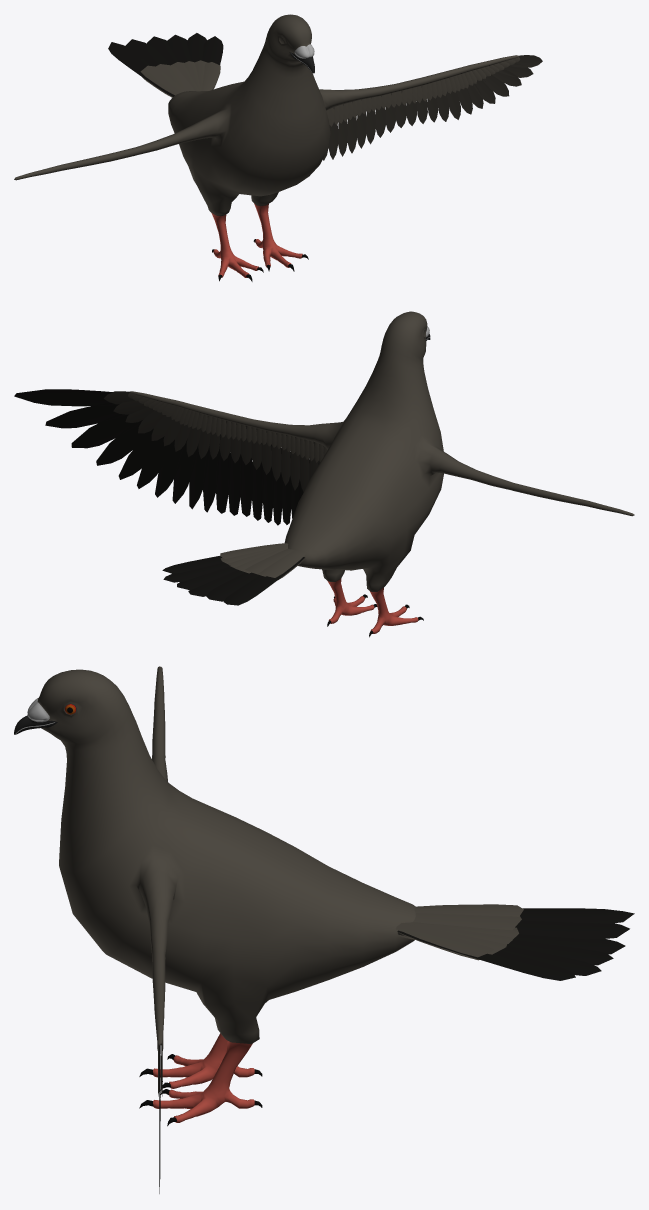
The model's file is pigeon.obj.
3 views of the same model, one above another, from view 1: azimuth 30°, elevation 25°; view 2: azimuth 150°, elevation 25°; view 3: azimuth 270°, elevation 25° (orthographic). The views are drawn at different scales.
Visible parts, largest first — view 1: pigeon, feather_tail_primary_006, feather_tail_secondary_006, feather_tail_primary_005, feather_tail_primary_001, feather_tail_primary_003, feather_tail_primary_002, feather_tail_secondary_001, feather_tail_secondary_005, feather_tail_primary_004; view 2: pigeon, feather_flight_primary_021, feather_flight_primary_020, feather_flight_primary_019, feather_flight_primary_018, feather_flight_primary_017, feather_tail_primary_006, feather_flight_primary_015, feather_flight_primary_016, feather_flight_primary_014, feather_flight_primary_013, feather_flight_primary_011 (+12 smaller); view 3: pigeon, feather_tail_primary_005, feather_tail_primary_006, feather_tail_primary_001, feather_tail_secondary_005, feather_tail_secondary_001, feather_tail_secondary_006, feather_tail_primary_003, feather_tail_primary_004, feather_tail_primary_002.
Part boxes in pixels (box(x1,y1,x2,y2)): pigeon: box(14, 14, 519, 281); feather_tail_primary_006: box(108, 42, 174, 96); feather_tail_secondary_006: box(140, 65, 185, 95); feather_tail_primary_005: box(125, 39, 170, 66); feather_tail_primary_001: box(202, 36, 223, 89); feather_tail_primary_003: box(167, 34, 191, 62); feather_tail_primary_002: box(186, 33, 206, 62); feather_tail_secondary_001: box(202, 62, 220, 90); feather_tail_secondary_005: box(156, 64, 194, 91); feather_tail_primary_004: box(147, 36, 178, 64); pigeon: box(130, 311, 634, 637); feather_flight_primary_021: box(14, 389, 119, 406); feather_flight_primary_020: box(45, 403, 127, 428); feather_flight_primary_019: box(71, 414, 142, 448); feather_flight_primary_018: box(96, 420, 153, 465); feather_flight_primary_017: box(118, 428, 164, 479); feather_tail_primary_006: box(224, 557, 304, 605); feather_flight_primary_015: box(155, 439, 187, 497); feather_flight_primary_016: box(137, 438, 174, 488); feather_flight_primary_014: box(172, 444, 198, 503); feather_flight_primary_013: box(189, 445, 209, 509); feather_flight_primary_011: box(216, 434, 230, 513); pigeon: box(14, 666, 415, 1126); feather_tail_primary_005: box(515, 920, 629, 939); feather_tail_primary_006: box(520, 908, 634, 923); feather_tail_primary_001: box(397, 930, 575, 980); feather_tail_secondary_005: box(413, 913, 521, 930); feather_tail_secondary_001: box(396, 923, 493, 957); feather_tail_secondary_006: box(414, 904, 523, 916); feather_tail_primary_003: box(398, 933, 613, 965); feather_tail_primary_004: box(398, 934, 625, 954); feather_tail_primary_002: box(398, 932, 601, 975).
Bounding box in the file's own units: 0.5948 × 0.2511 × 0.3358.
